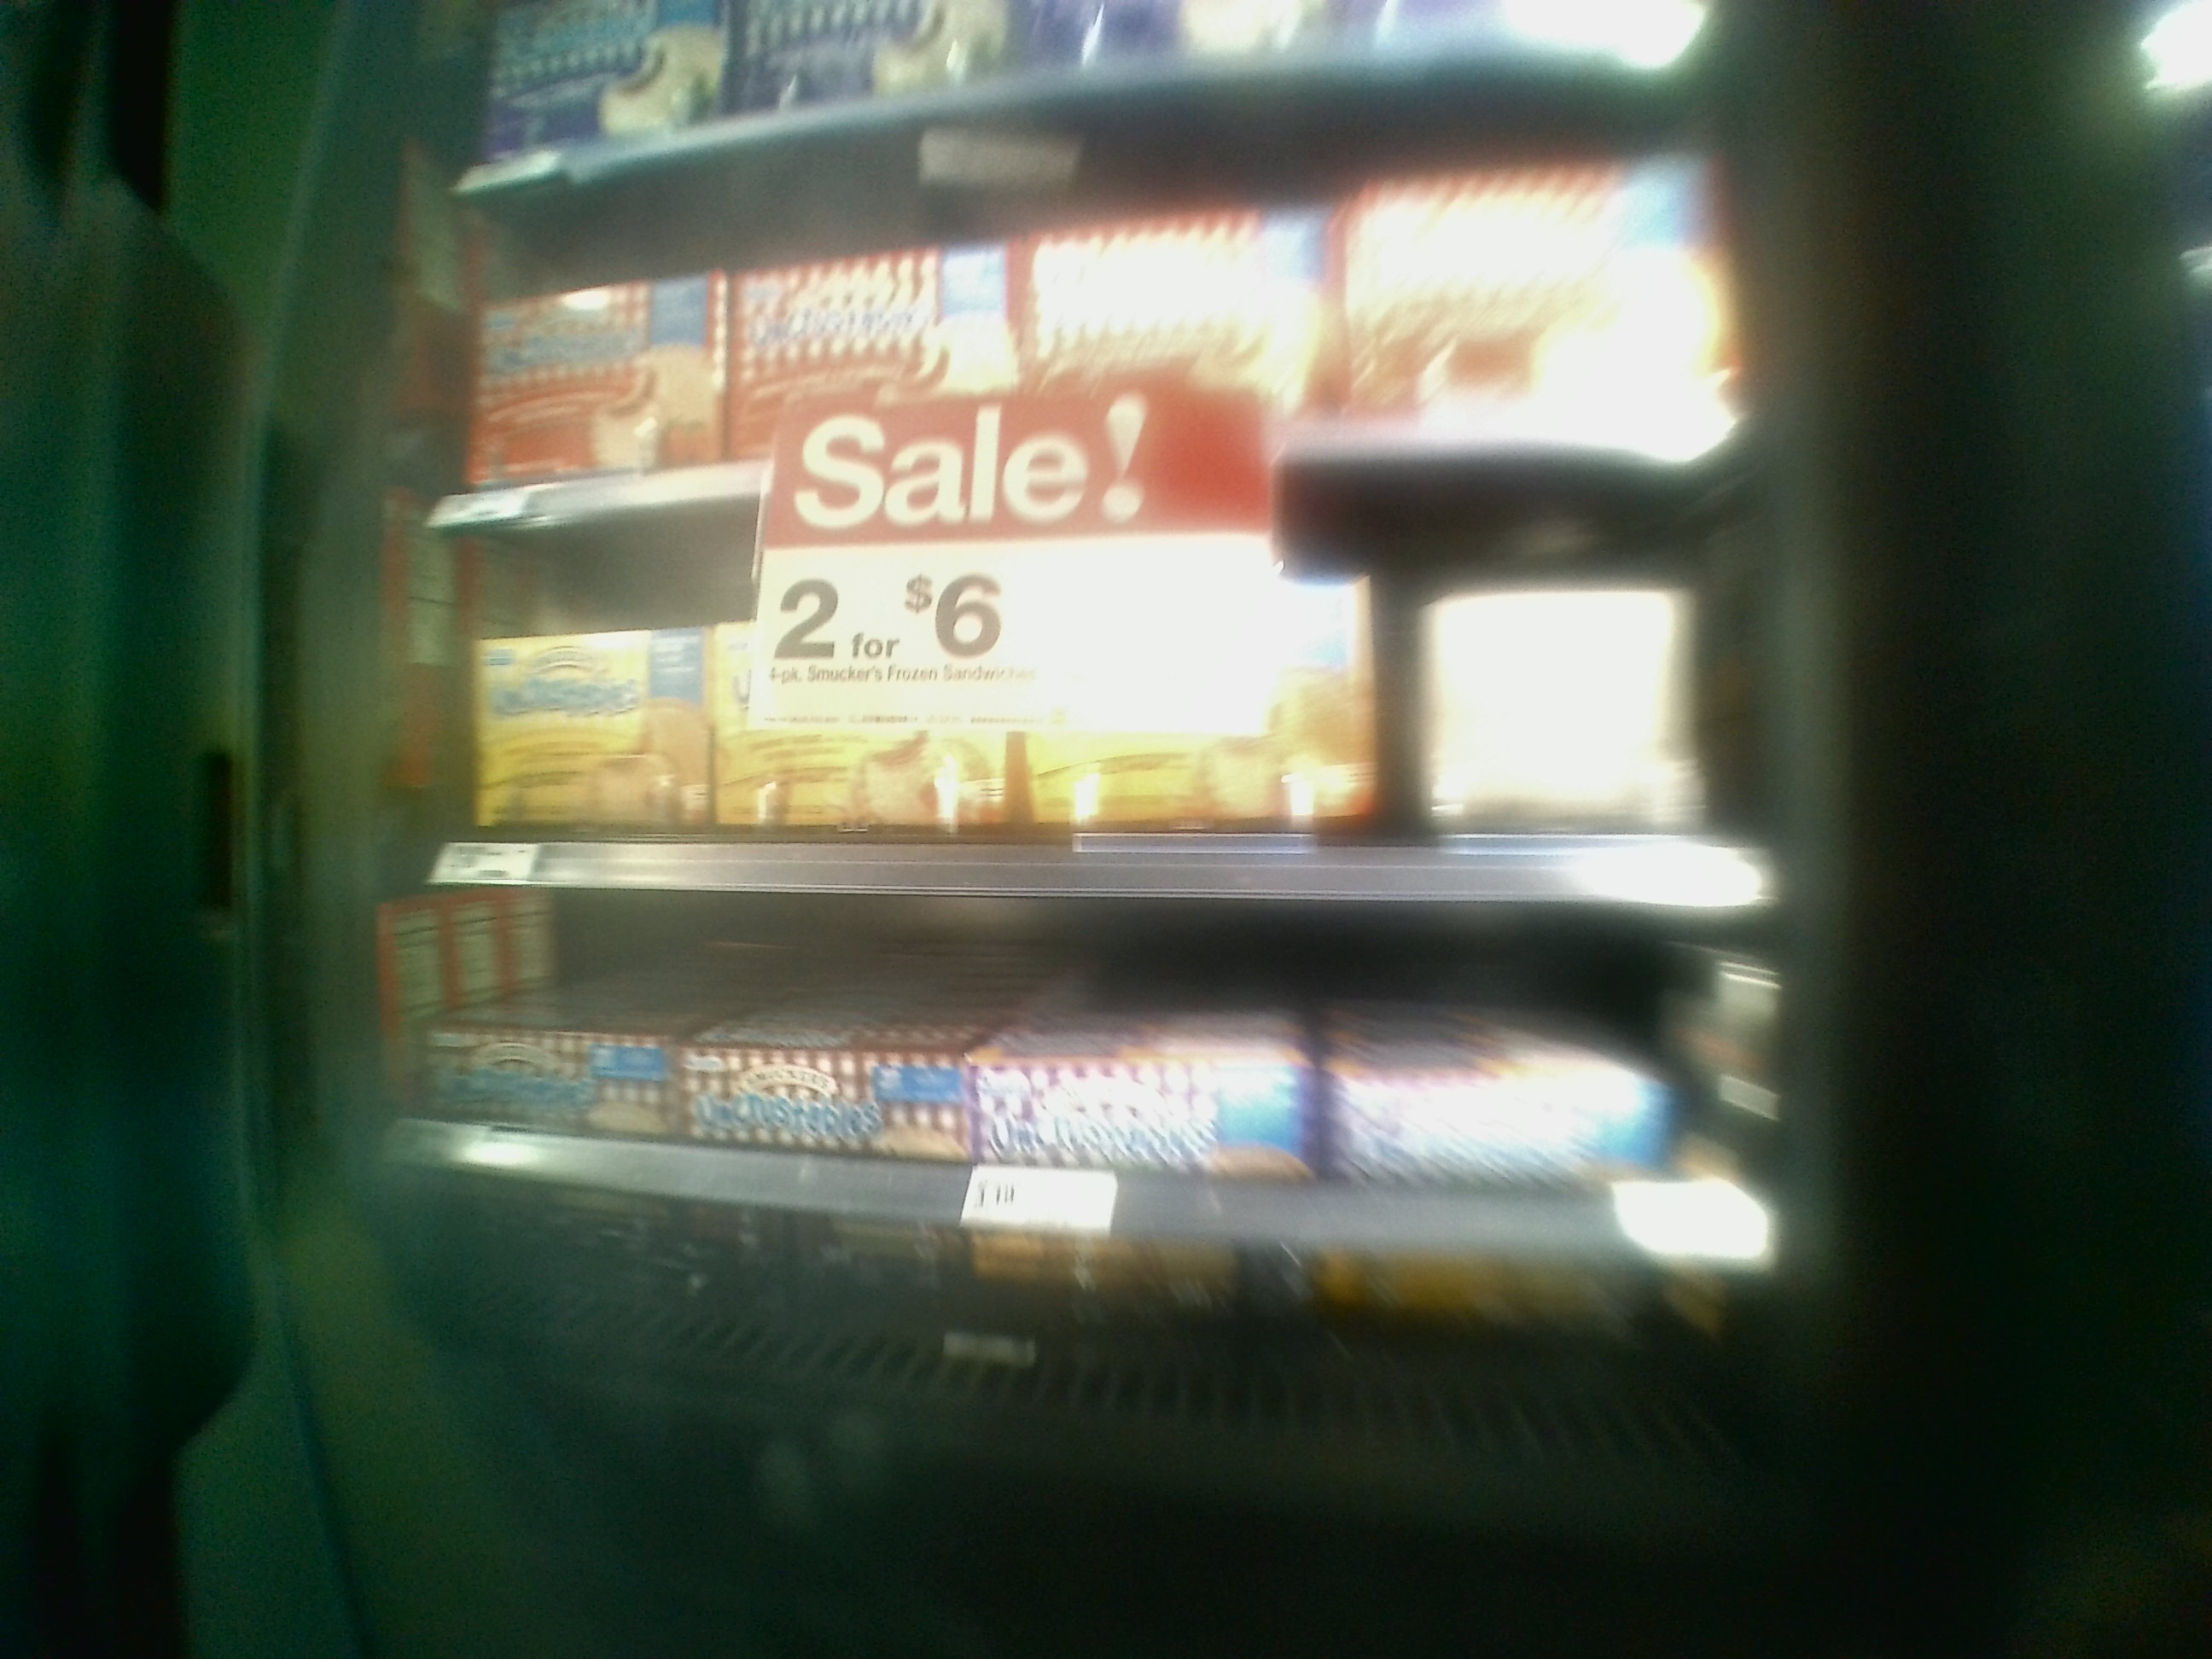shelf: (428, 460, 1764, 897), (425, 887, 1766, 1300)
